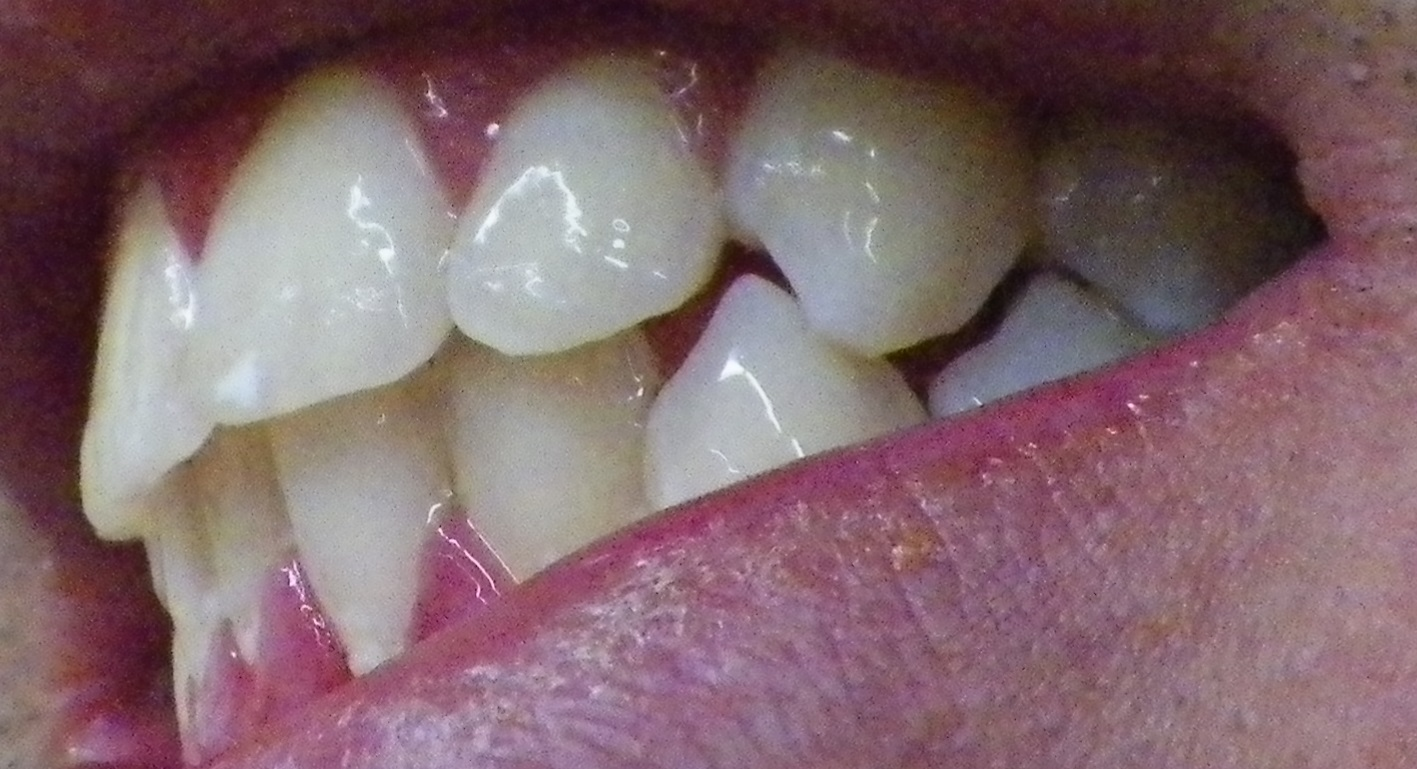boca: (96, 55, 1241, 769)
